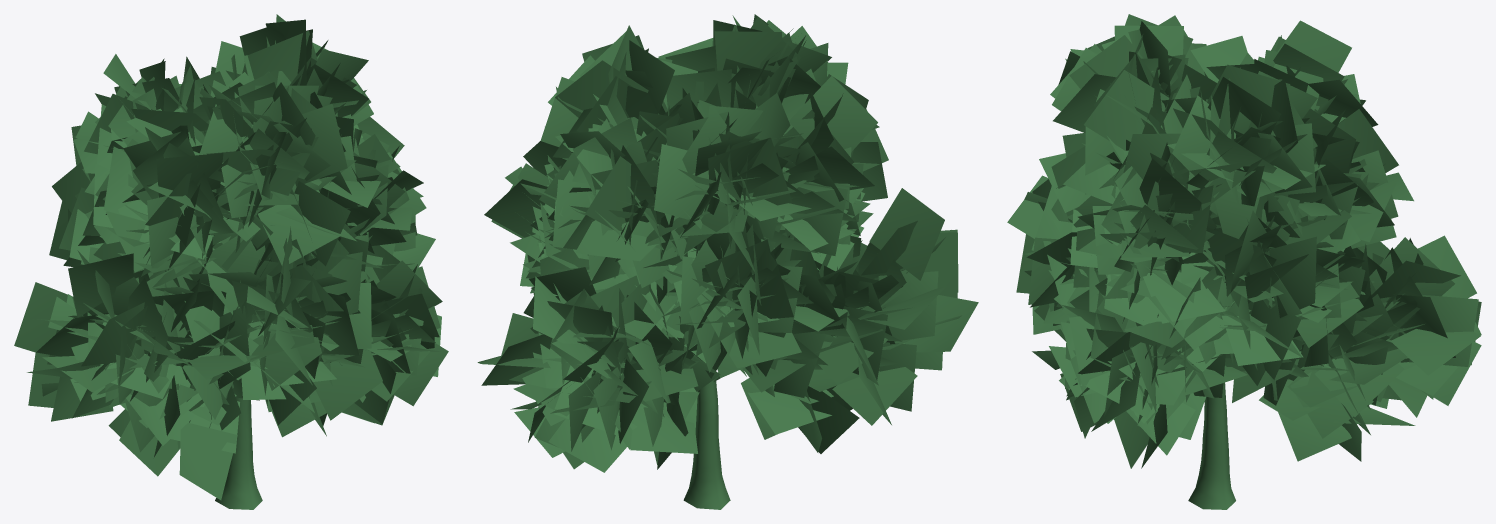
File: Tree_11.fbx
The picture shows the model from 3 angles, left to right: view 1: azimuth 30°, elevation 25°; view 2: azimuth 150°, elevation 25°; view 3: azimuth 270°, elevation 25°; orthographic projection. The views are drawn at different scales.
Visible parts, largest first — view 1: Tree_11_1; view 2: Tree_11_1; view 3: Tree_11_1.
Boxes of the visible parts, x1,y1,x2,y2 form: Tree_11_1: (14,14,448,509); Tree_11_1: (477,14,978,509); Tree_11_1: (1007,14,1481,509).
Bounding box in the file's own units: 302 × 329 × 300.
